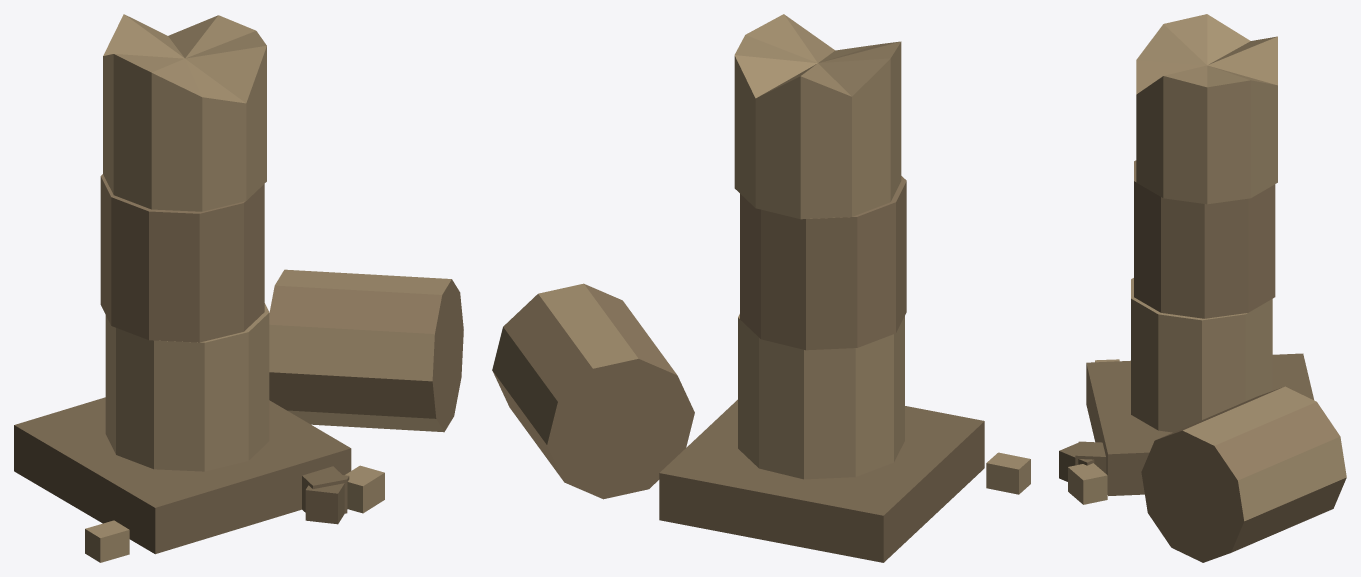
File: ruin_column.glb
3 renders of one model, left to right at view 1: azimuth 30°, elevation 25°; view 2: azimuth 150°, elevation 25°; view 3: azimuth 270°, elevation 25°, orthographic. The views are drawn at different scales.
Visible parts, largest first — view 1: ruin_column2; view 2: ruin_column2; view 3: ruin_column2.
Part boxes in pixels (left/top/right/bottom): ruin_column2: left=14, top=14, right=463, bottom=562; ruin_column2: left=492, top=14, right=1030, bottom=562; ruin_column2: left=1059, top=14, right=1346, bottom=562.
Bounding box in the file's own units: 3.64 × 3.48 × 2.24.
